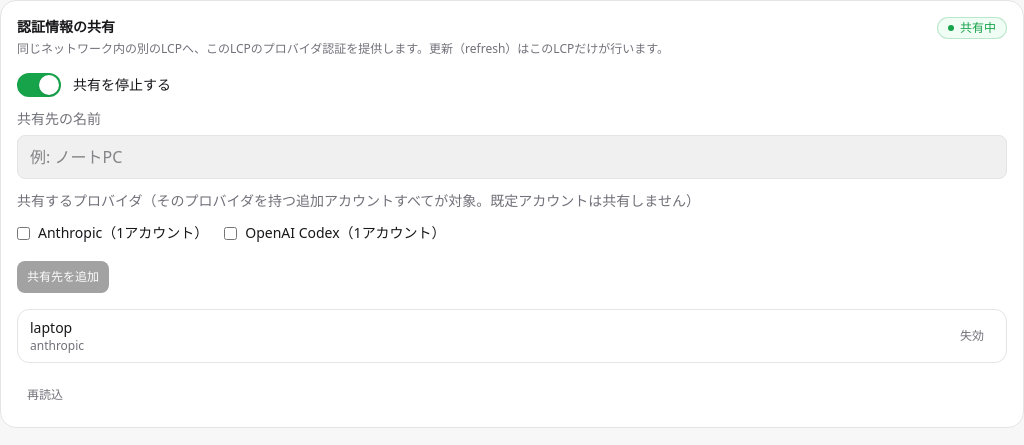
Test: PeerShareSettings › revokes a grant by id
This screenshot has width=1024, height=445.
What coordinates should you click on to do the following:
click the button "失効"
I would click on:
 (972, 336)
Its box is [950, 320, 994, 352].
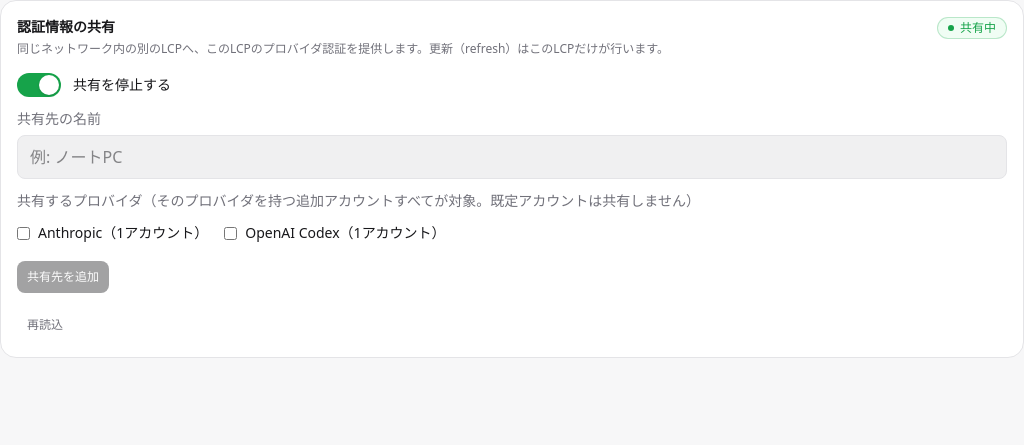
Check: the text "laptop" is gone
